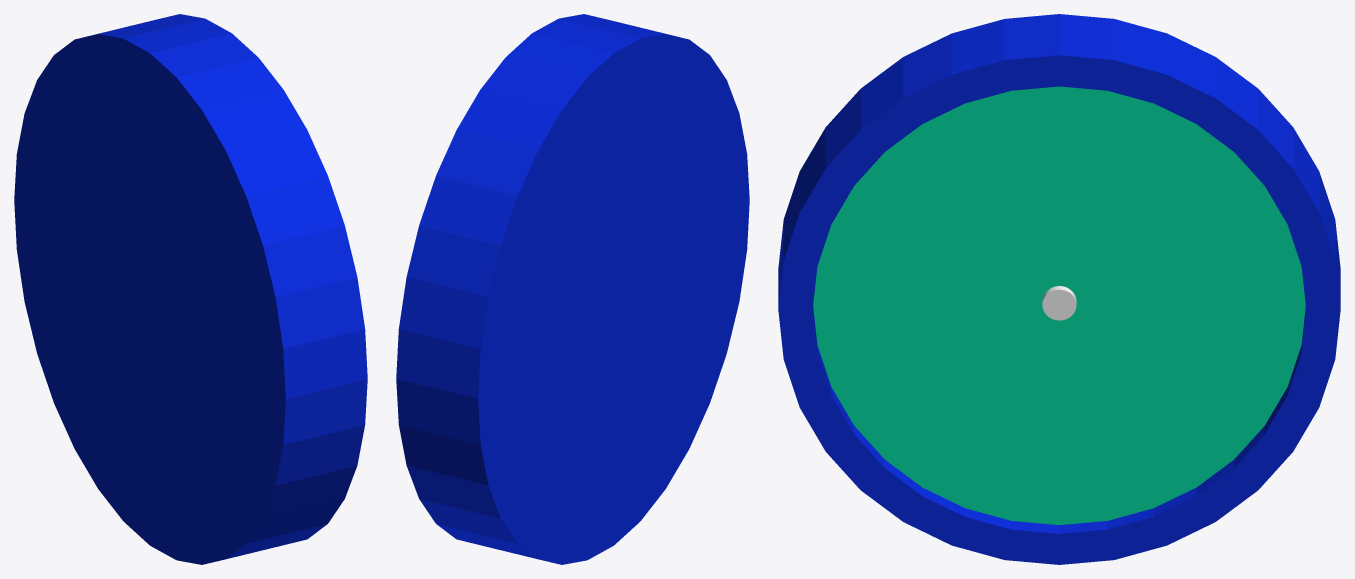
Rendered from compass.gltf.
3 views of the same model, side by side, from view 1: azimuth 30°, elevation 25°; view 2: azimuth 150°, elevation 25°; view 3: azimuth 270°, elevation 25° (orthographic). The views are drawn at different scales.
Visible parts, largest first — view 1: Cylinder.002; view 2: Cylinder.002; view 3: Cylinder.002, Cylinder.003.
Part boxes in pixels (bbox=[...]): Cylinder.002: bbox=[14, 14, 367, 564]; Cylinder.002: bbox=[396, 14, 749, 564]; Cylinder.002: bbox=[778, 14, 1340, 564]; Cylinder.003: bbox=[1042, 286, 1076, 320].
Size of the model in its own units: 1.2 by 6.92 by 6.92.
